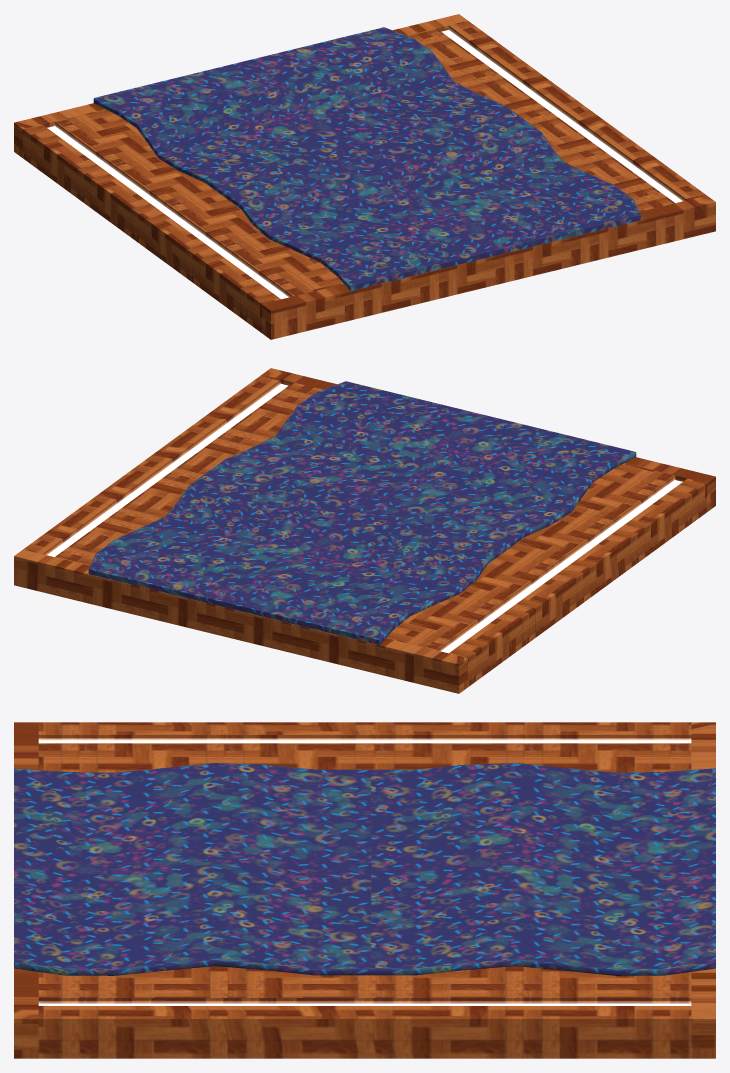
Rendered from AnaKaremOrtizPerez@PisoArcade.fbx.
3 renders of one model, top to bottom at view 1: azimuth 30°, elevation 25°; view 2: azimuth 150°, elevation 25°; view 3: azimuth 270°, elevation 25°, orthographic. The views are drawn at different scales.
Visible parts, largest first — view 1: pCube3; view 2: pCube3; view 3: pCube3.
Part boxes in pixels (x1,y1,x2,y2): pCube3: [14, 14, 715, 339]; pCube3: [14, 368, 715, 693]; pCube3: [14, 722, 715, 1058].
Size of the model in its own units: 21.03 by 1.55 by 21.03.
